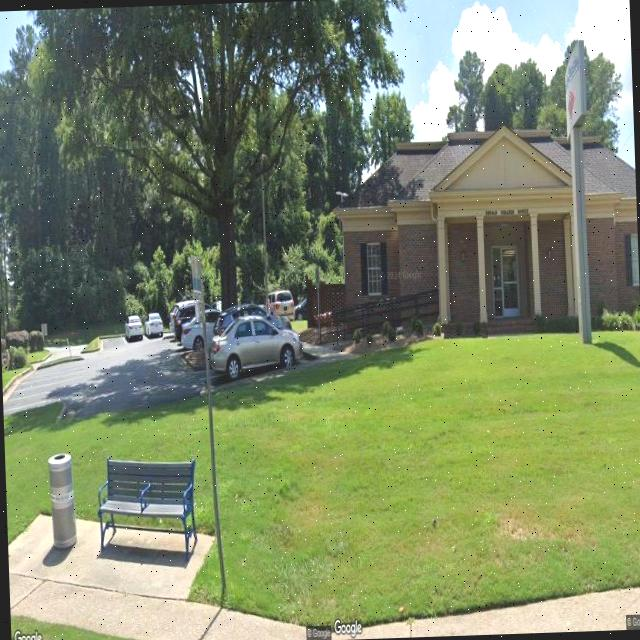seating: (95, 453, 198, 565)
trash_can: (47, 452, 77, 550)
